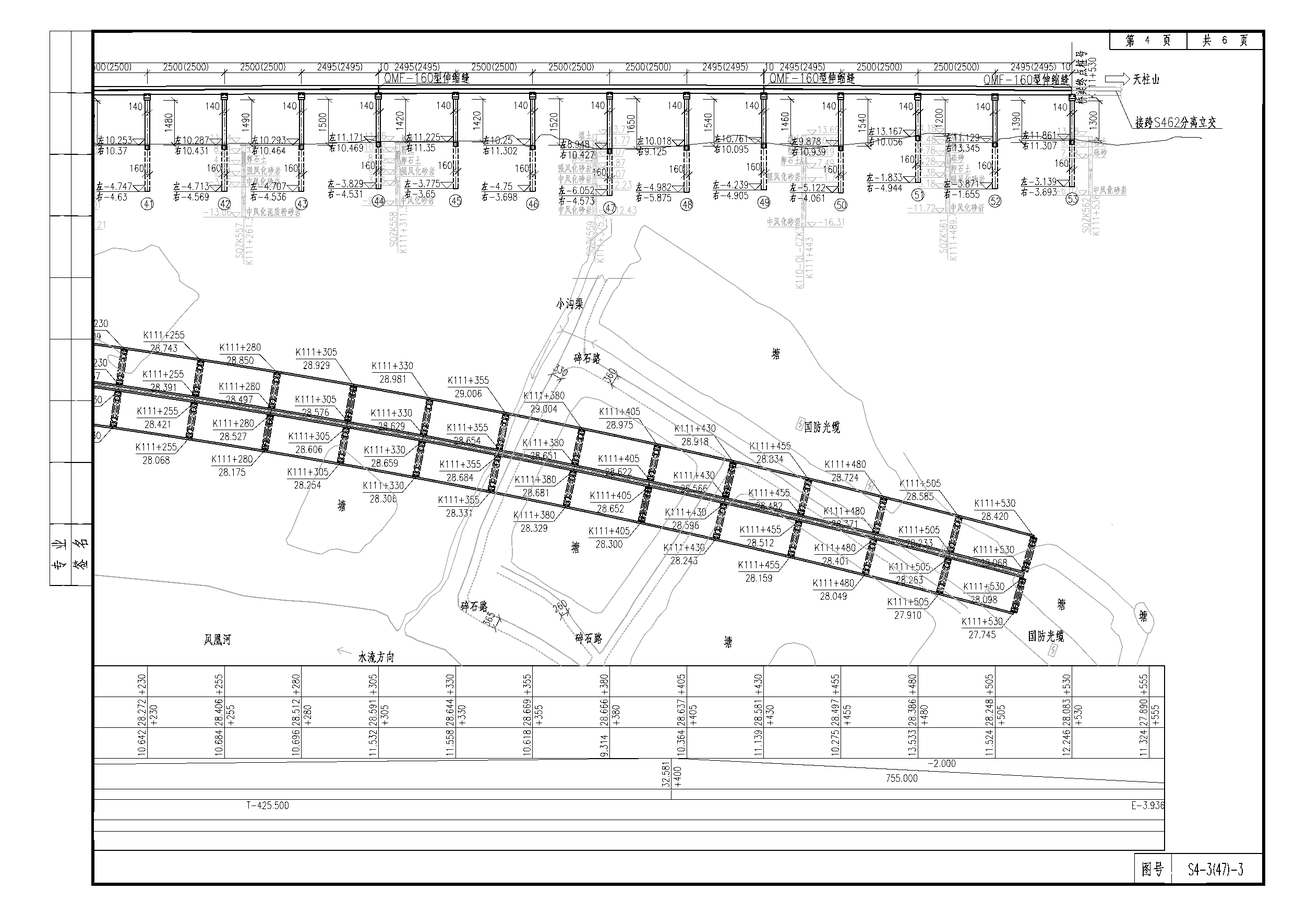A: (88, 40, 1244, 257)
